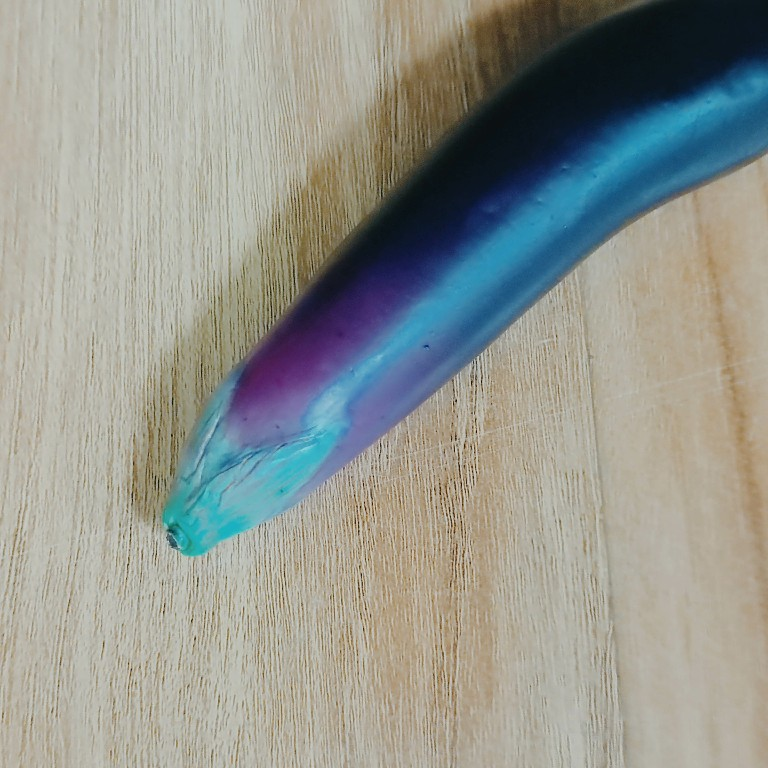fruit_eggplant: (156, 1, 768, 559)
